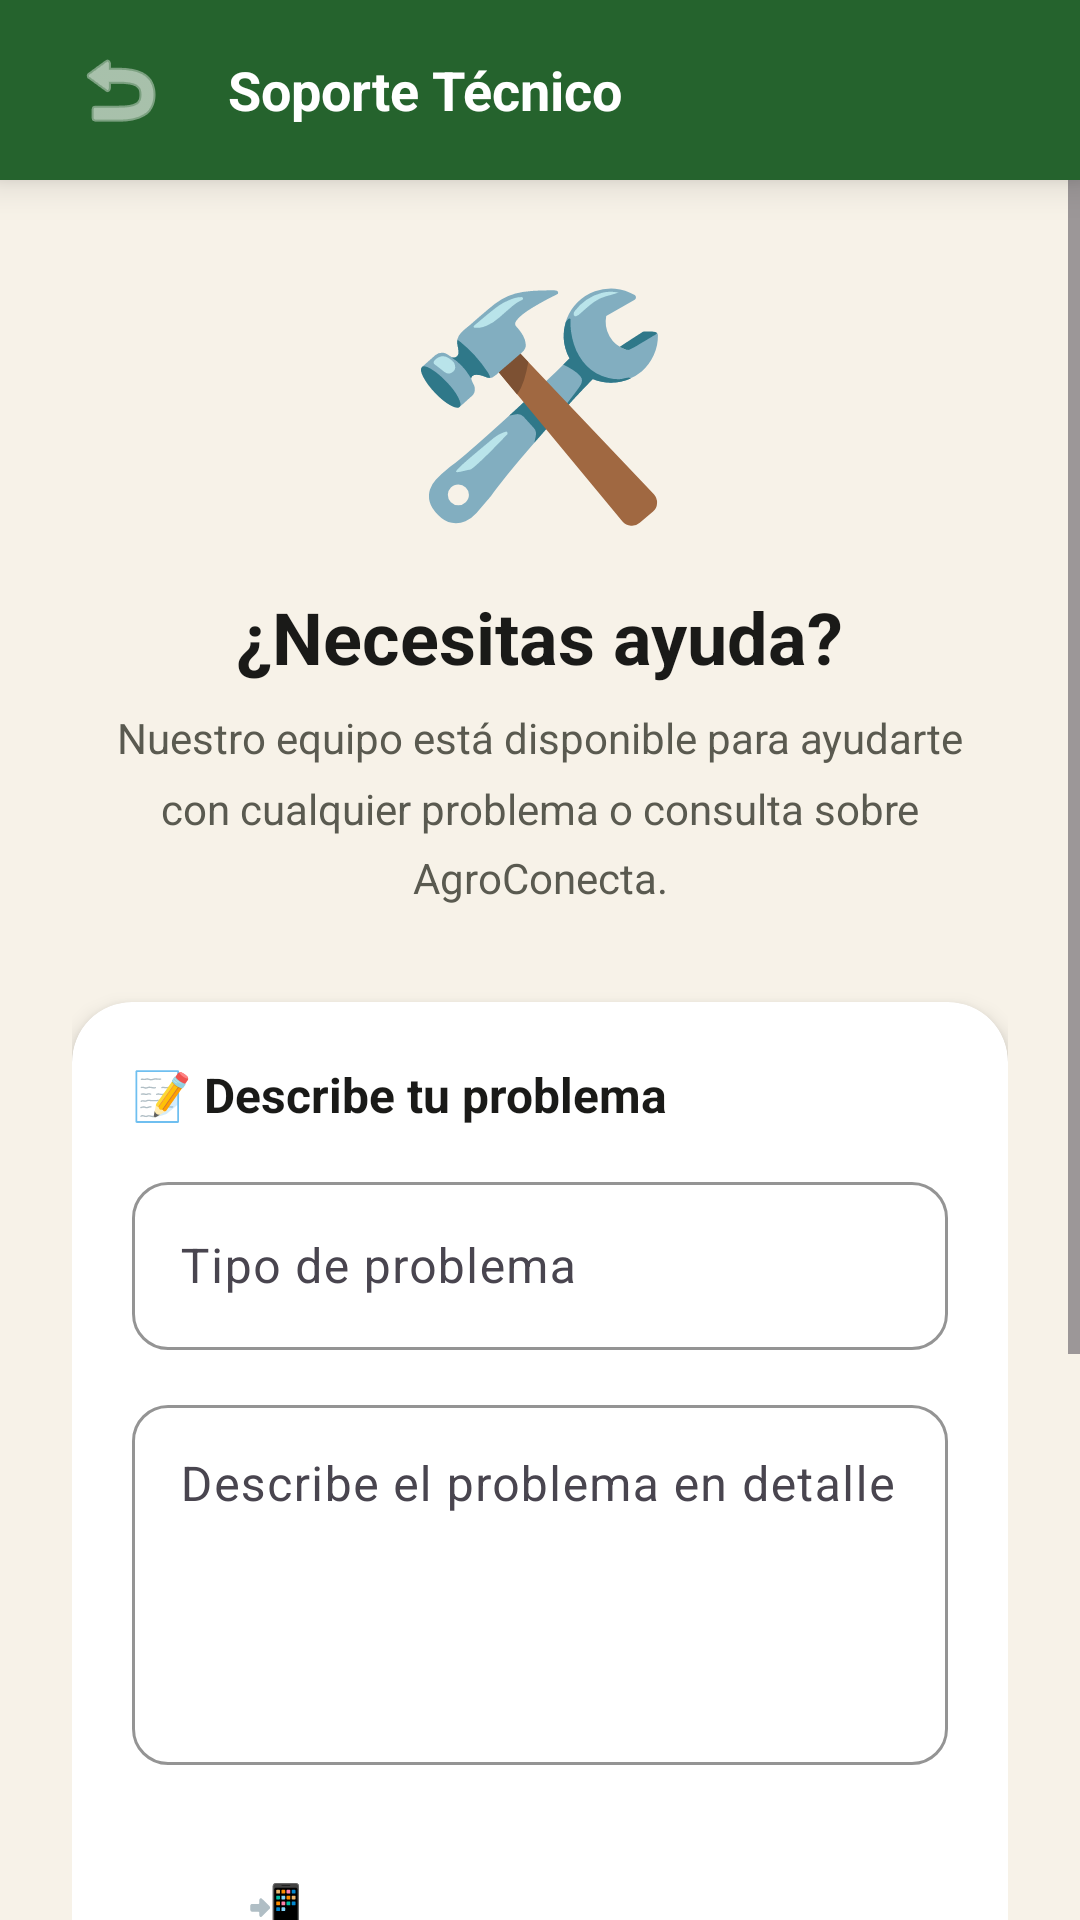

Screen size 1080 x 1920. Icon name, then its center in pixels as point (x, y):
Volver: point (121, 90)
